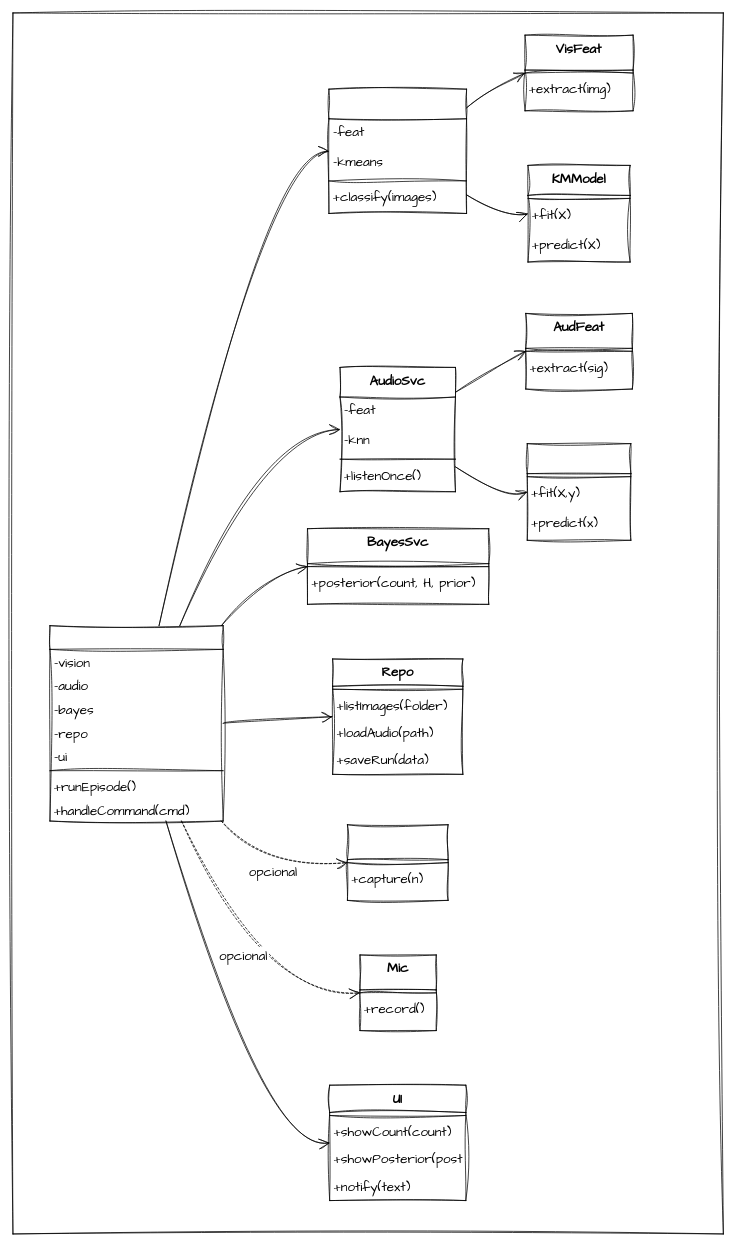
Some shapes in this 736 by 1246 pixel diagram are drawn without their labels. The shapes that lost their labels are listed below. From the top down, each one's box as (x1, y1, x2, y2) in pixels, then its label:
(328, 88, 467, 213): VisionSvc
(527, 443, 631, 540): KNNModel
(49, 625, 223, 821): Controller
(347, 824, 448, 900): Camera
